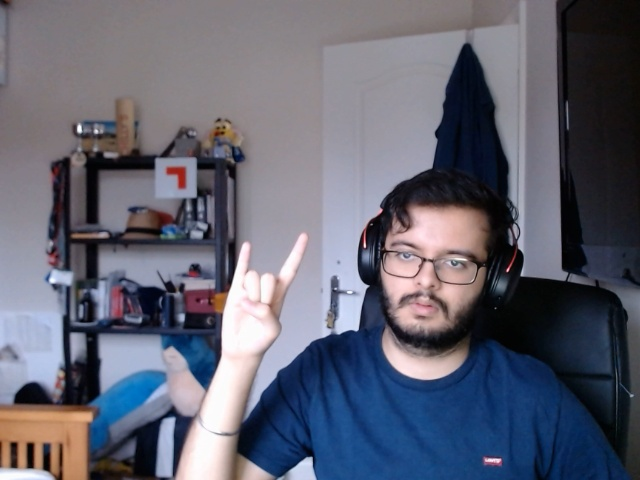Rock on: (194, 219, 319, 372)
